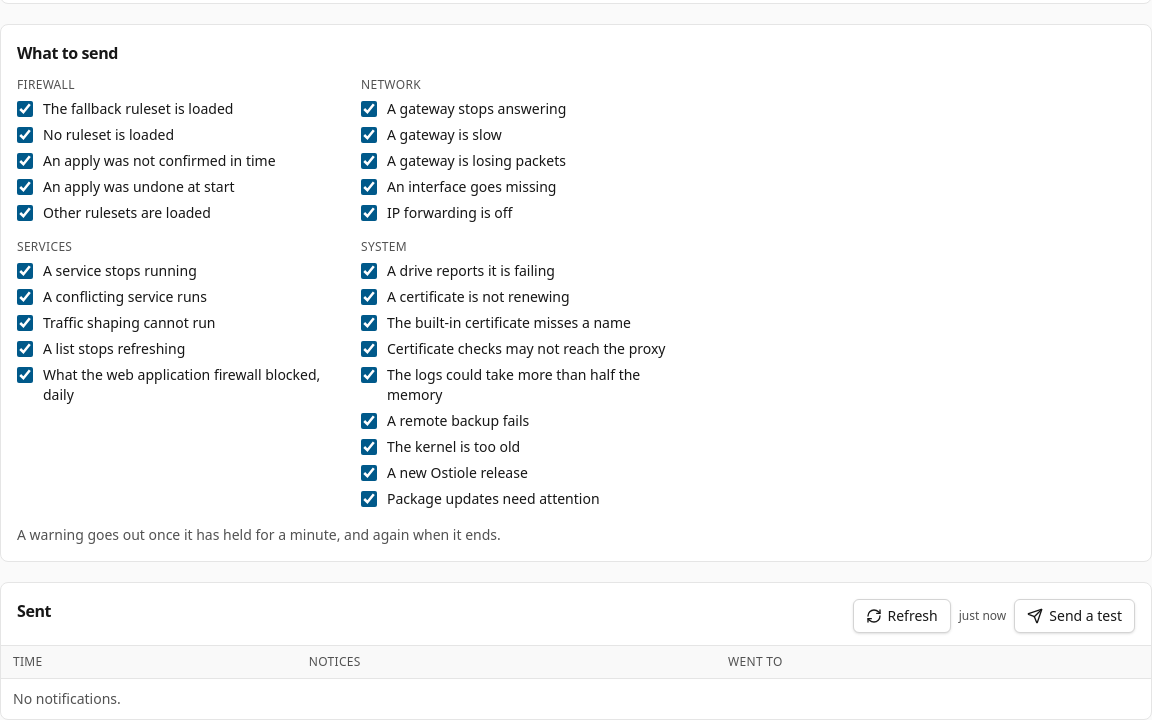
Test case: NotificationsPage › sends a test from the draft
(page scrolled)
Click the button "Send a test": (1075, 616) [1014,599,1135,633]
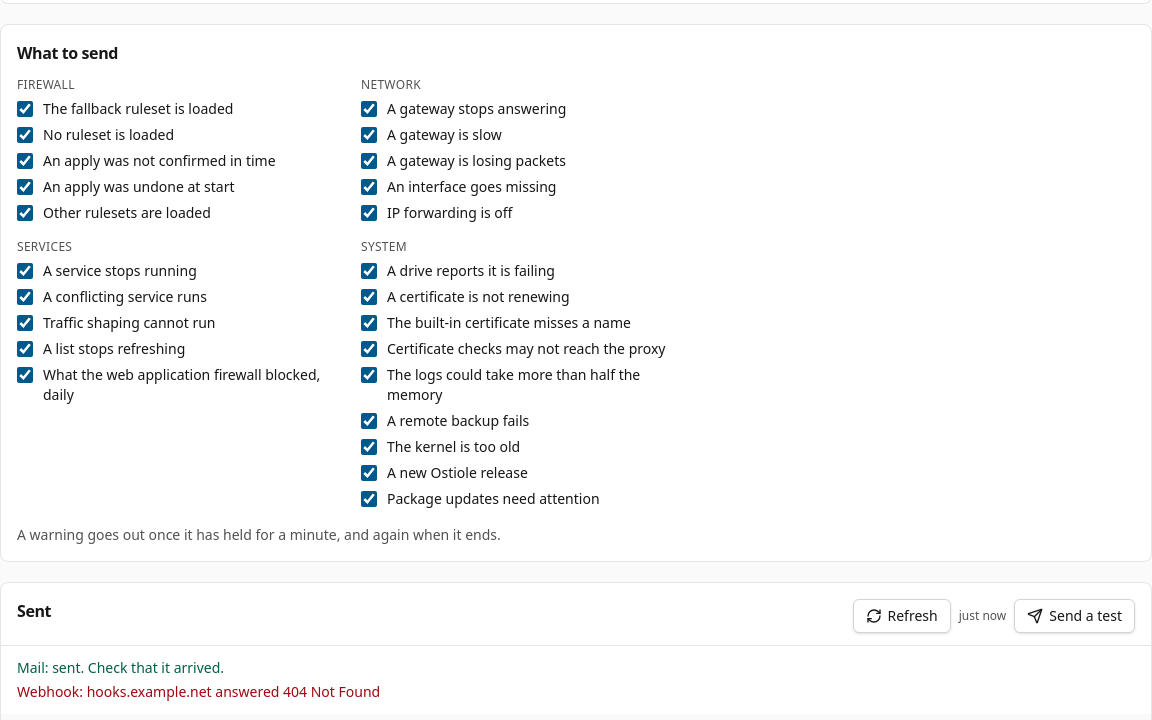
expect the text "Mail: sent." is shown: met, box [17,658,224,677]
expect the text "Webhook: hooks.example.net answered 404 Not Found" is shown: met, box [17,682,380,701]
